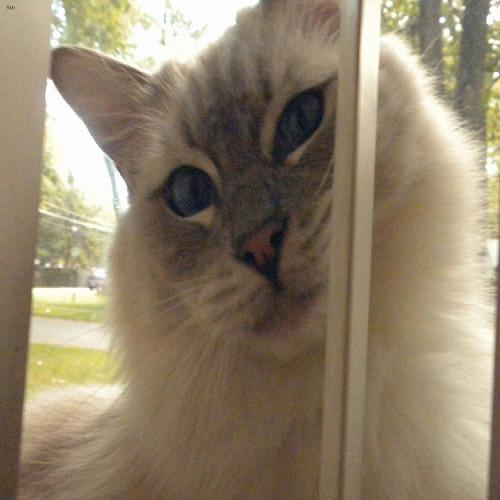ragdoll: (35, 1, 439, 362)
